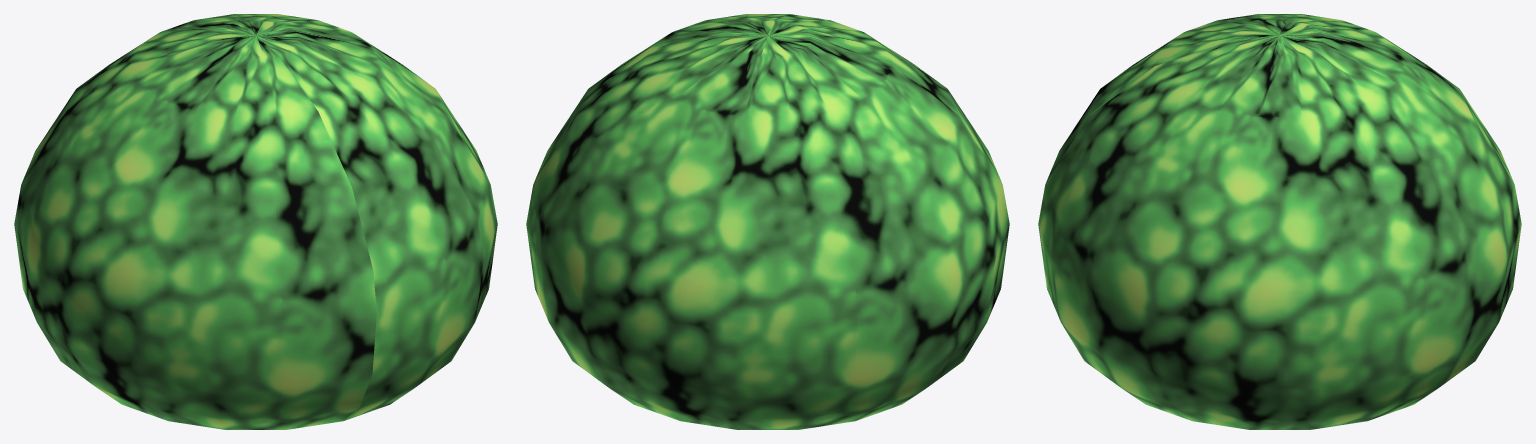
File: GAMEJAMPUFFER - Bush 1.fbx
3 views of the same model, side by side, from view 1: azimuth 30°, elevation 25°; view 2: azimuth 150°, elevation 25°; view 3: azimuth 270°, elevation 25° (orthographic).
Visible parts, largest first — view 1: Beach Ball.001; view 2: Beach Ball.001; view 3: Beach Ball.001.
Part boxes in pixels (x1=…): Beach Ball.001: x1=14, y1=14, x2=497, y2=429; Beach Ball.001: x1=526, y1=14, x2=1009, y2=429; Beach Ball.001: x1=1038, y1=14, x2=1521, y2=429.
Size of the model in its own units: 234 by 174 by 237.
1 material, 1 textured.
